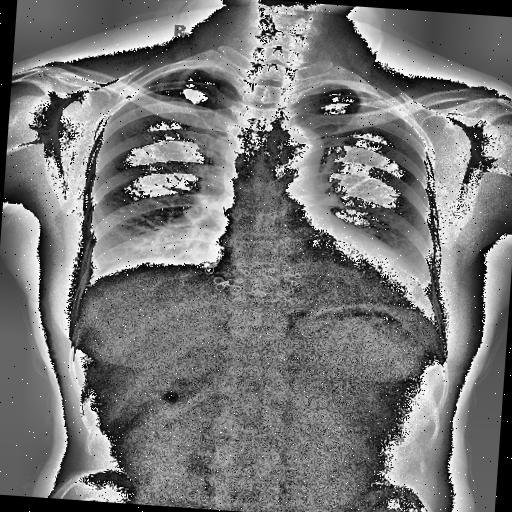0- Aortic enlargement: (268, 124, 326, 171)
3- Cardiomegaly: (204, 216, 422, 316), (202, 224, 424, 306), (203, 228, 422, 298)
